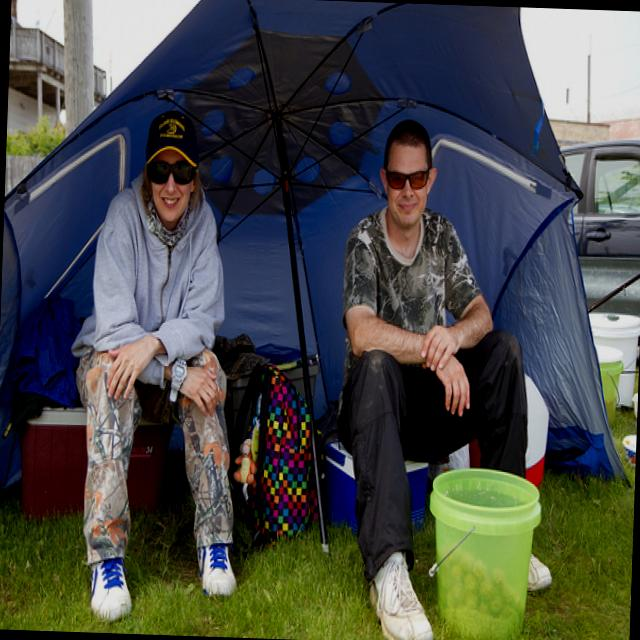Vehicle: (553, 126, 640, 348)
